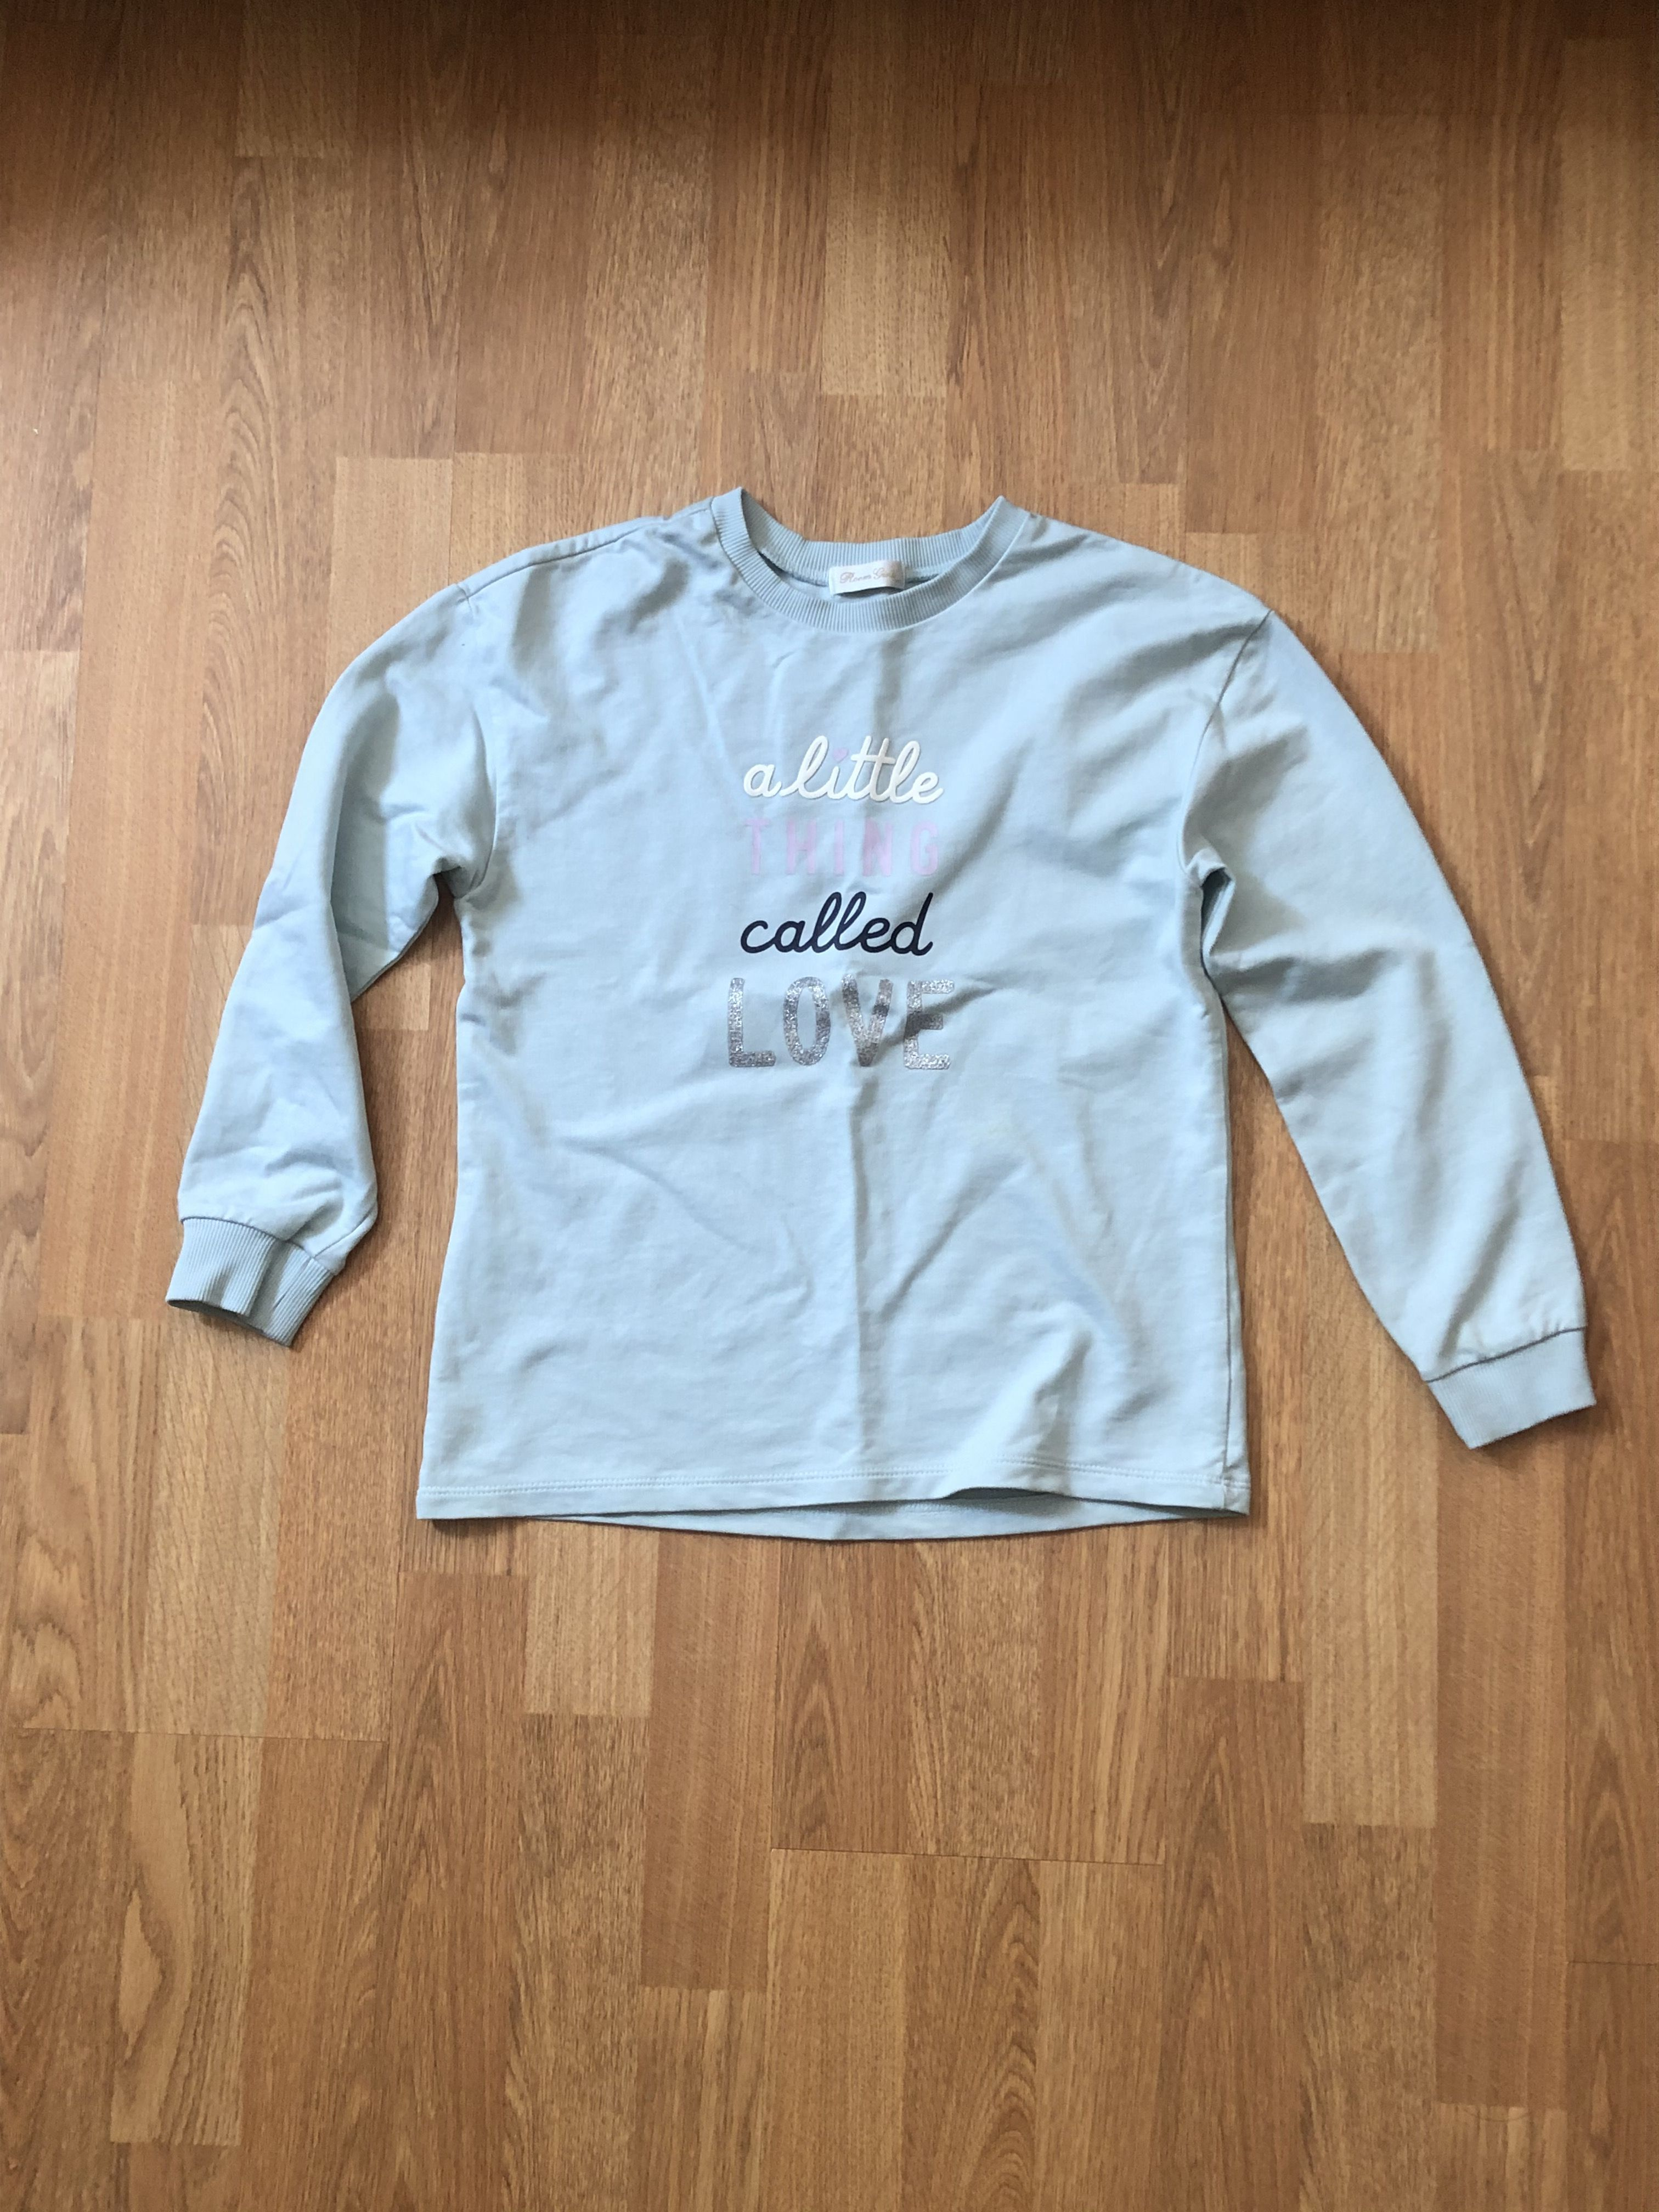clothes: (155, 460, 1617, 1550)
